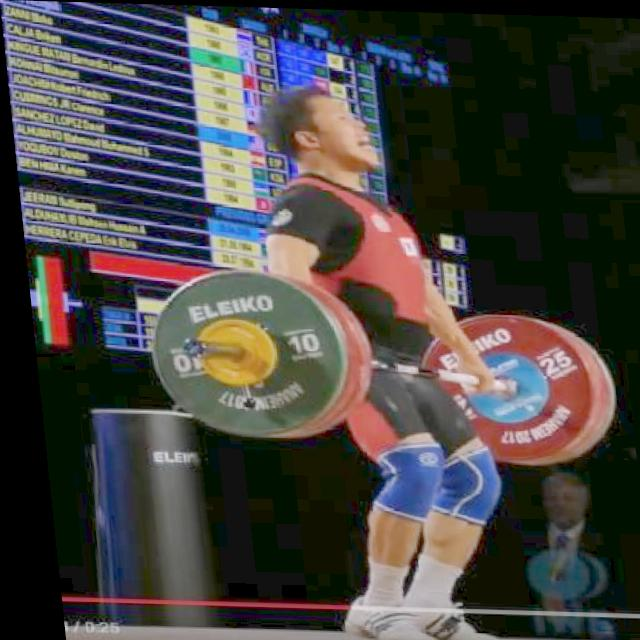barbell: (137, 255, 348, 447)
